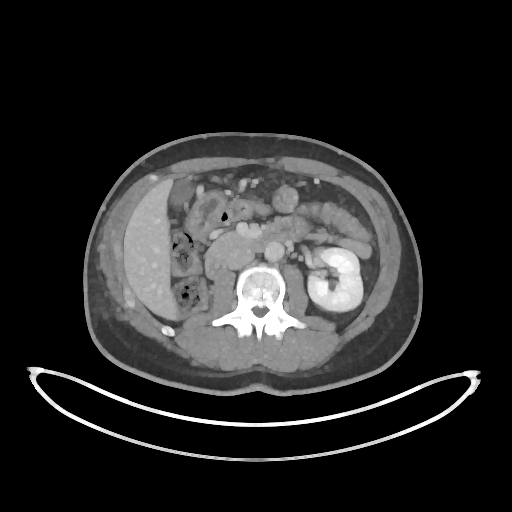Lesion: (327, 276, 339, 295)
